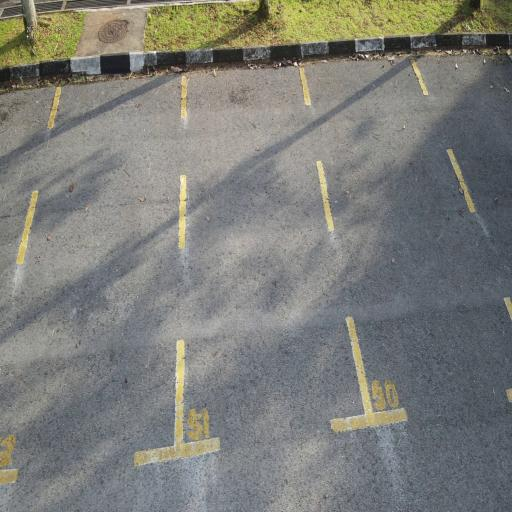Empty: (168, 57, 376, 471)
